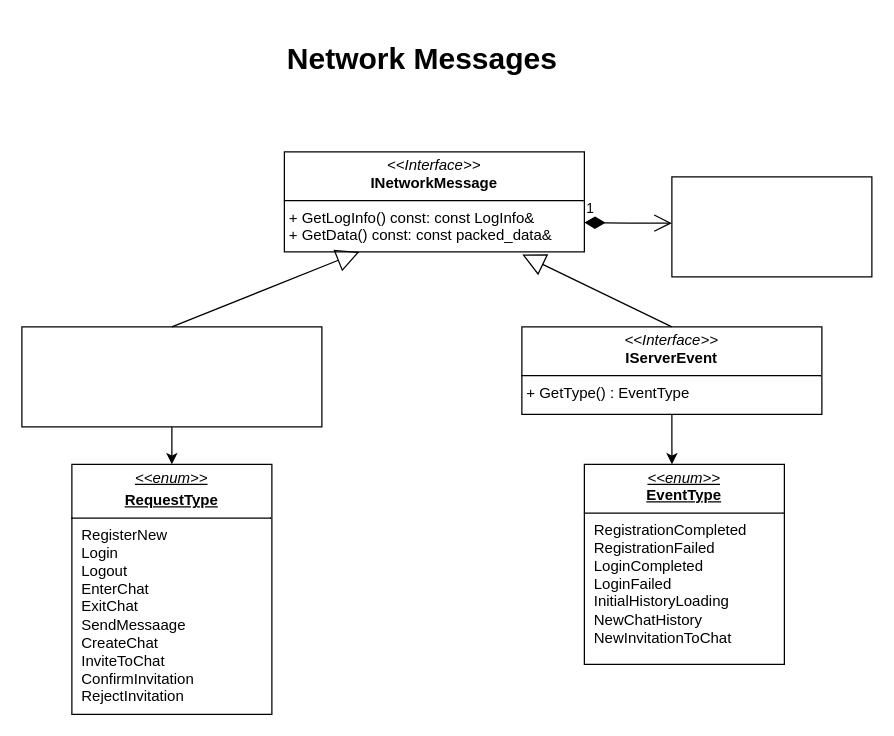
Some shapes in this 894 by 736 pixel diagram are drawn without their labels. The centre of each missing label's shape, as x and y in pixels:
"<<Interface>> IClientRequest + GetSender(): ID + GetType() : RequestType" goes at [171,376].
"<<struct>> LogInfo time: time_point meggage: string" goes at [771,226].
